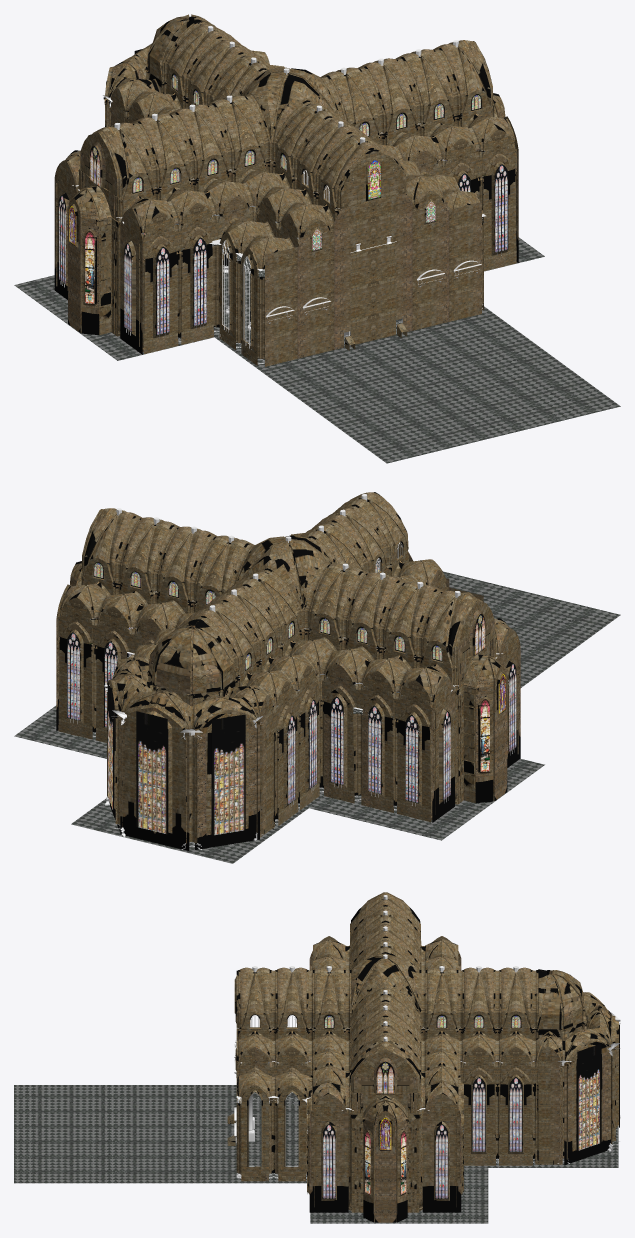
Rendered from castle.glb.
3 renders of one model, top to bottom at view 1: azimuth 30°, elevation 25°; view 2: azimuth 150°, elevation 25°; view 3: azimuth 270°, elevation 25°, orthographic. The views are drawn at different scales.
Parts seen in each view (by area): view 1: Enternance_6, cross_section_2, FLOOR_11, nave_28, 2_arches_8, altar_3, vitrages.001_16, 2_arches_inverted_9, vitrages_nave.001_14, vitrages_nave_19; view 2: cross_section_2, altar_3, nave_28, 2_arches_8, FLOOR_11, 2_arches_inverted_9, altar_vitrage_5, vitrages.001_16, Enternance_6, altar_vitrage2_4, vitrages_nave.001_14, vitrages_nave_19 (+3 smaller); view 3: FLOOR_11, cross_section_2, nave_28, altar_3, Enternance_6, 2_arches_inverted_9, 2_arches_8, altar_vitrage_5, vitrages.003_18, vitrages_nave_19, vitrages_nave.001_14.
Boxes of the visible parts, x1,y1,x2,y2 form: Enternance_6: [226, 122, 485, 366]; cross_section_2: [118, 40, 463, 343]; FLOOR_11: [14, 179, 620, 463]; nave_28: [54, 40, 518, 354]; 2_arches_8: [75, 40, 501, 349]; altar_3: [103, 14, 270, 164]; vitrages.001_16: [132, 94, 508, 335]; 2_arches_inverted_9: [126, 24, 292, 177]; vitrages_nave.001_14: [67, 146, 485, 304]; vitrages_nave_19: [58, 159, 446, 332]; cross_section_2: [111, 510, 456, 809]; altar_3: [105, 619, 274, 850]; nave_28: [56, 508, 520, 822]; 2_arches_8: [73, 508, 499, 817]; FLOOR_11: [14, 571, 620, 863]; 2_arches_inverted_9: [133, 603, 298, 825]; altar_vitrage_5: [107, 681, 245, 835]; vitrages.001_16: [67, 562, 498, 803]; Enternance_6: [245, 492, 483, 702]; altar_vitrage2_4: [136, 711, 168, 834]; vitrages_nave.001_14: [90, 560, 507, 772]; vitrages_nave_19: [128, 627, 516, 800]; FLOOR_11: [14, 1085, 618, 1223]; cross_section_2: [292, 911, 497, 1181]; nave_28: [307, 892, 463, 1222]; altar_3: [534, 969, 618, 1165]; Enternance_6: [227, 966, 292, 1181]; 2_arches_inverted_9: [497, 966, 534, 1165]; 2_arches_8: [307, 896, 463, 1114]; altar_vitrage_5: [576, 1043, 601, 1151]; vitrages.003_18: [472, 1077, 522, 1151]; vitrages_nave_19: [323, 1124, 448, 1198]; vitrages_nave.001_14: [365, 1061, 406, 1195].
Bounding box in the file's own units: 92.09 × 44.08 × 131.
Materials: 12 (8 with a texture image).
